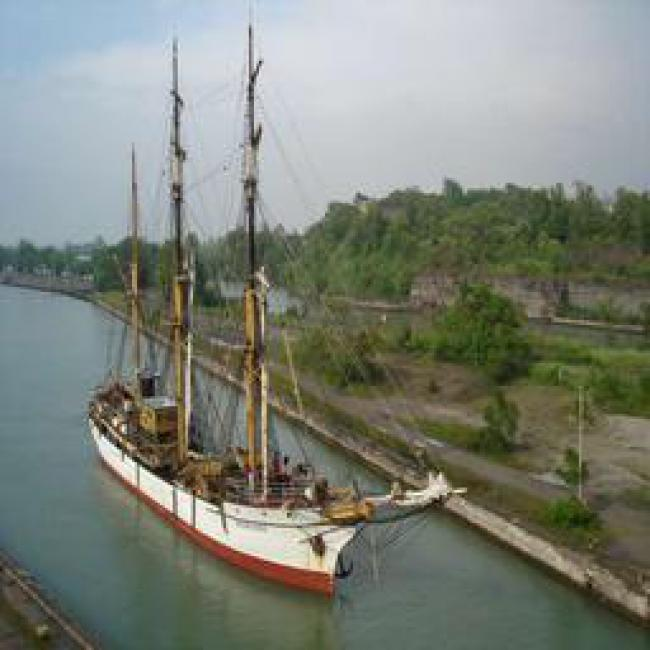Ship: (89, 143, 449, 595)
